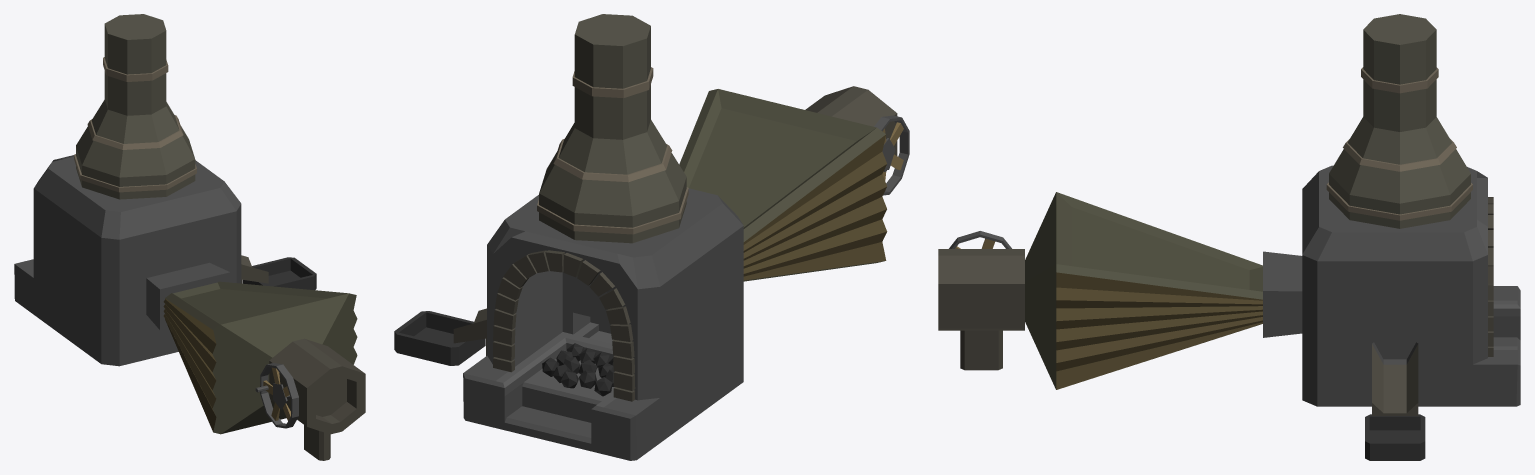
File: Furnace.fbx
3 views of the same model, side by side, from view 1: azimuth 30°, elevation 25°; view 2: azimuth 150°, elevation 25°; view 3: azimuth 270°, elevation 25° (orthographic). The views are drawn at different scales.
Visible parts, largest first — view 1: FurnaceBase, Bellow, SpinnerBase, Wheel; view 2: FurnaceBase, Bellow, Coal, SpinnerBase, Wheel; view 3: FurnaceBase, Bellow, SpinnerBase.
Boxes of the visible parts, x1,y1,x2,y2 form: FurnaceBase: [14, 14, 316, 366]; Bellow: [163, 281, 357, 434]; SpinnerBase: [269, 338, 365, 460]; Wheel: [255, 363, 298, 428]; FurnaceBase: [394, 14, 743, 460]; Bellow: [679, 89, 887, 281]; Coal: [542, 343, 614, 396]; SpinnerBase: [805, 86, 897, 155]; Wheel: [874, 115, 909, 195]; FurnaceBase: [1263, 14, 1520, 460]; Bellow: [1025, 192, 1262, 389]; SpinnerBase: [938, 249, 1024, 370].
Bounding box in the file's own units: 344 × 401 × 627.
